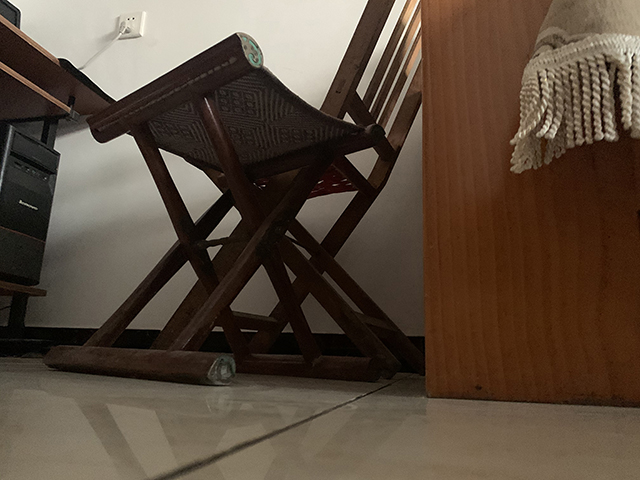stool: (42, 1, 425, 387)
